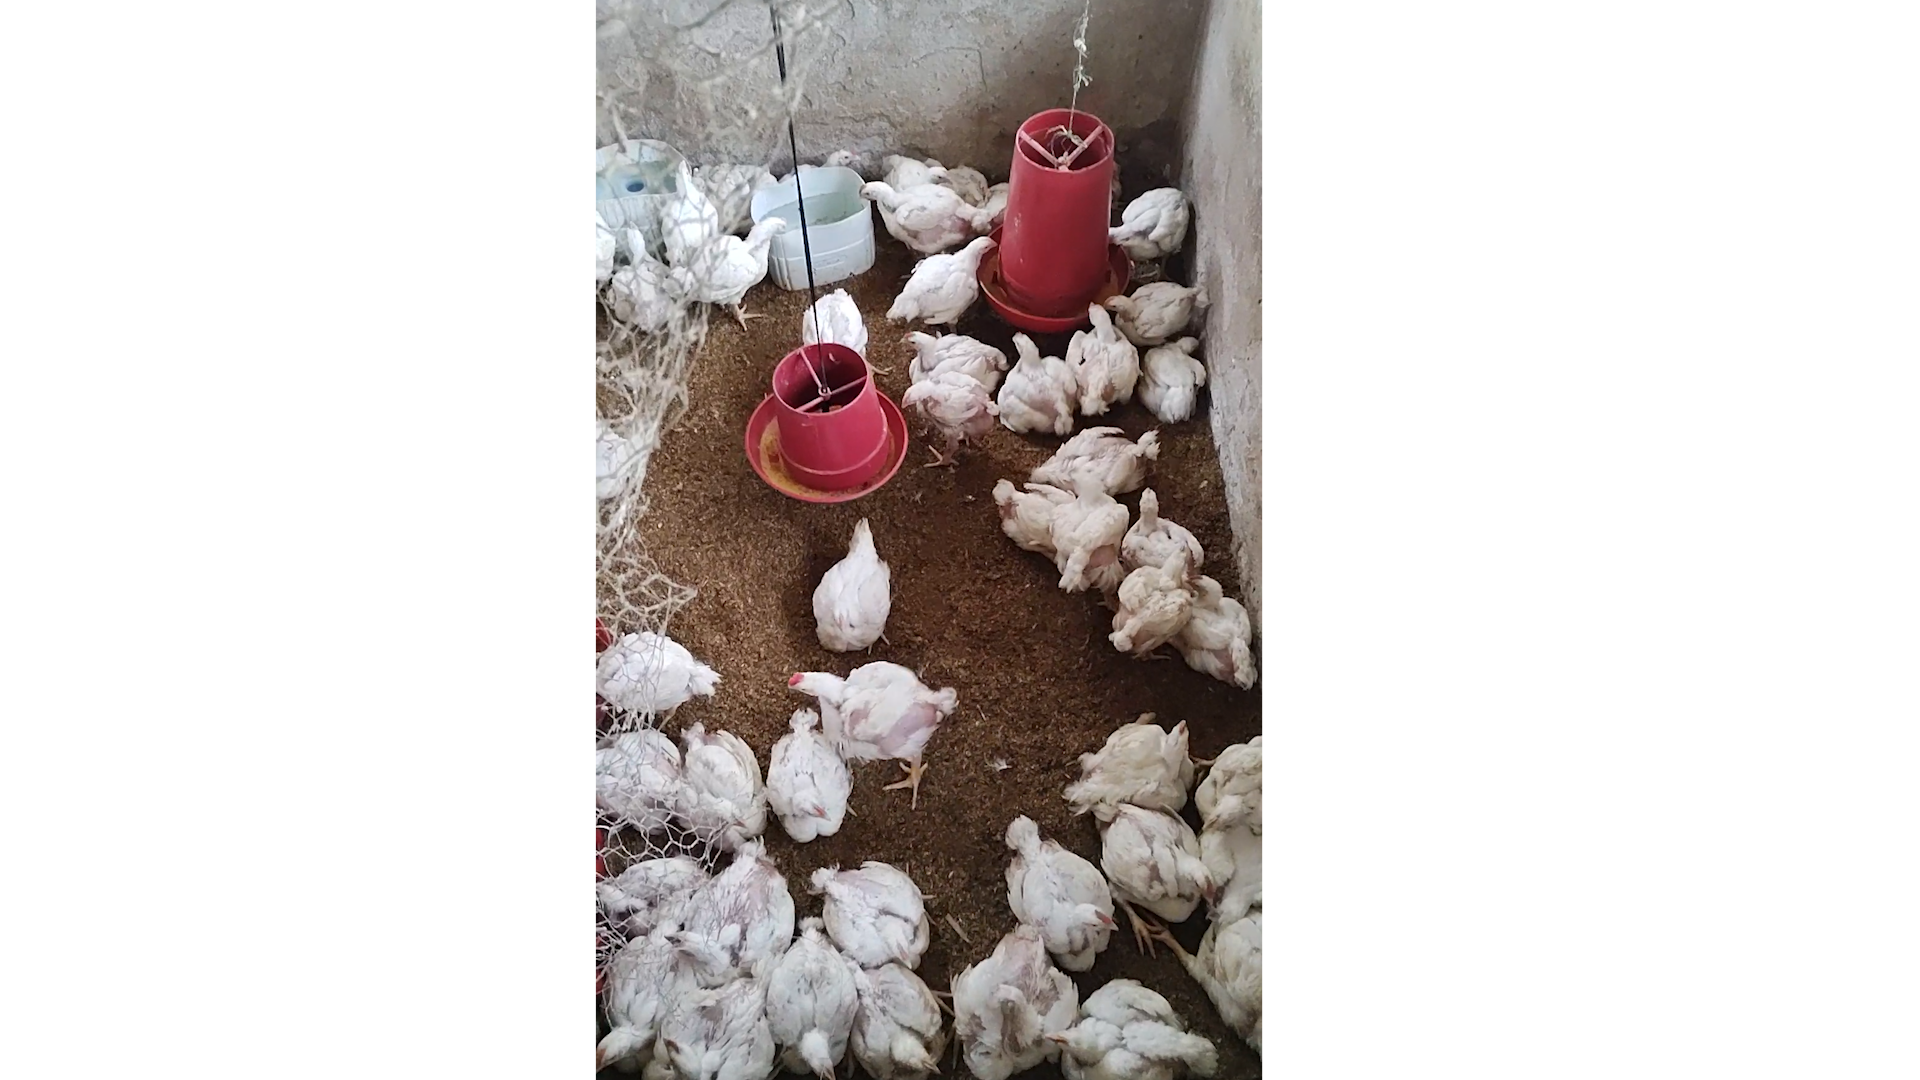Pollos: (785, 645, 977, 804), (1091, 787, 1236, 932), (1162, 905, 1295, 1054), (990, 818, 1126, 963), (1054, 709, 1212, 833), (949, 927, 1073, 1080), (769, 903, 869, 1080), (806, 856, 938, 971), (1189, 712, 1286, 864), (1065, 985, 1218, 1076), (682, 214, 799, 330), (851, 953, 957, 1080), (767, 696, 855, 843), (808, 514, 897, 650), (593, 622, 731, 709), (1101, 550, 1203, 665), (996, 316, 1091, 436), (881, 233, 1002, 324), (1036, 469, 1122, 592), (1027, 419, 1164, 496), (1062, 294, 1141, 422), (1183, 568, 1261, 692), (898, 369, 1001, 463), (611, 210, 687, 328), (1133, 334, 1213, 442), (856, 178, 976, 248), (1125, 476, 1208, 575), (898, 322, 1015, 392), (794, 282, 885, 368), (1108, 178, 1193, 262), (986, 465, 1067, 549), (1106, 284, 1204, 338), (881, 141, 964, 185), (820, 146, 847, 170)
